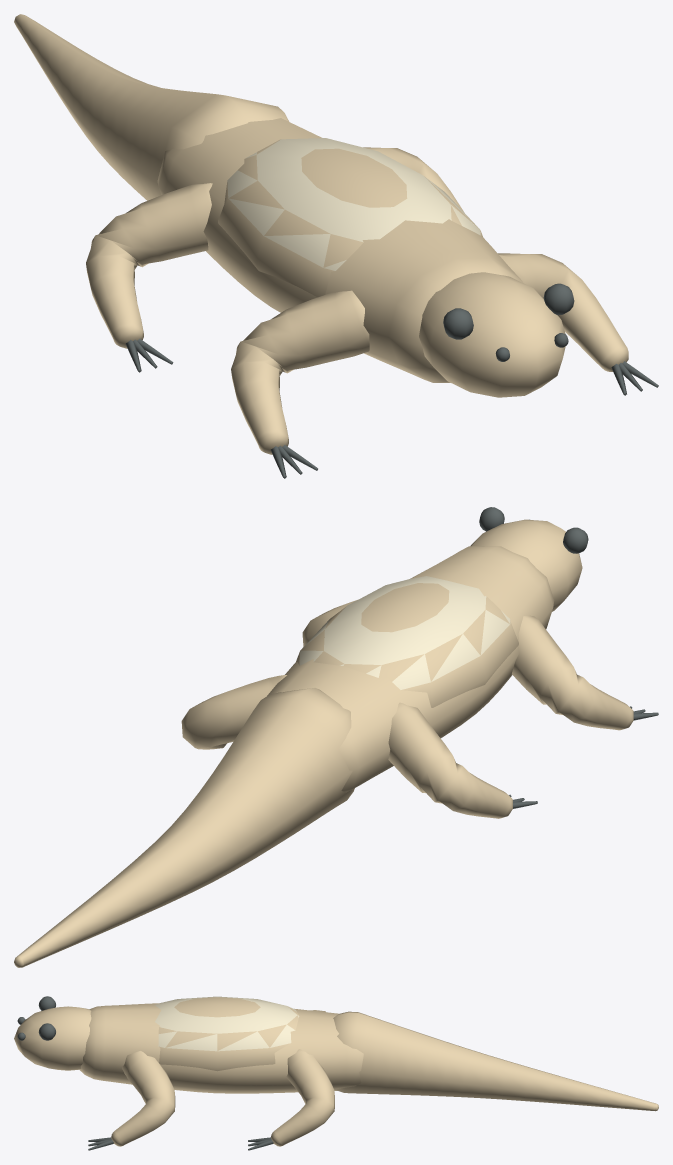
File: outback-and-australian-wildlife-perentie-goanna-214cf159__5925.glb
3 renders of one model, top to bottom at view 1: azimuth 30°, elevation 25°; view 2: azimuth 150°, elevation 25°; view 3: azimuth 270°, elevation 25°, orthographic. The views are drawn at different scales.
Parts seen in each view (by area): view 1: perentie-goanna; view 2: perentie-goanna; view 3: perentie-goanna.
Boxes of the visible parts, left/top/right/bottom form: perentie-goanna: left=14, top=14, right=658, bottom=478; perentie-goanna: left=14, top=507, right=658, bottom=967; perentie-goanna: left=14, top=996, right=658, bottom=1150.
Size of the model in its own units: 0.6261 by 0.2781 by 1.69.
